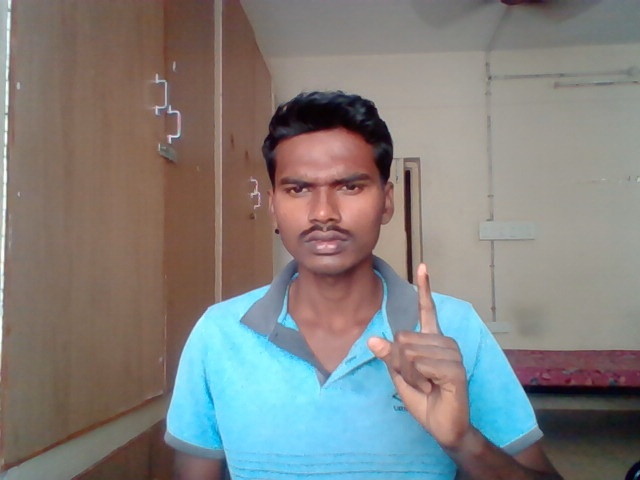No: (365, 260, 487, 450)
